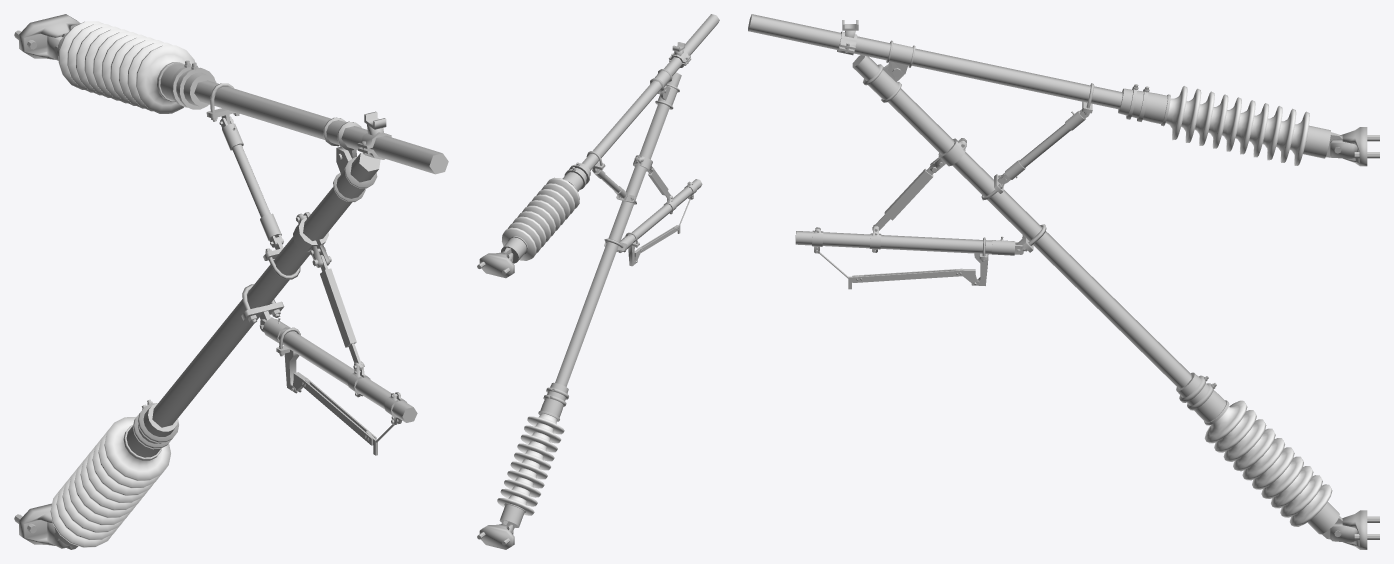
The model's file is single_short_elevated_positive.obj.
3 renders of one model, left to right at view 1: azimuth 30°, elevation 25°; view 2: azimuth 150°, elevation 25°; view 3: azimuth 270°, elevation 25°, orthographic. The views are drawn at different scales.
Visible parts, largest first — view 1: 贝塞尔曲线.001, 贝塞尔曲线, 贝塞尔曲线.002, 柱体.028, 柱体.007, 立方体.030, 柱体, 柱体.035, 立方体.038, 立方体.032, 立方体.024, 贝塞尔曲线.003 (+19 smaller); view 2: 贝塞尔曲线.001, 贝塞尔曲线, 贝塞尔曲线.002, 立方体.030, 立方体.032, 柱体.035, 柱体.018, 柱体.027, 柱体.008, 柱体.028, 柱体.033, 柱体.025 (+17 smaller); view 3: 贝塞尔曲线.001, 贝塞尔曲线, 贝塞尔曲线.002, 柱体, 柱体.035, 立方体.024, 柱体.028.
Part boxes in pixels (x1,y1,x2,y2): 贝塞尔曲线.001: (152,152,380,427); 贝塞尔曲线: (194,80,448,174); 贝塞尔曲线.002: (278,329,417,422); 柱体.028: (104,416,170,480); 柱体.007: (136,45,195,113); 立方体.030: (19,14,80,59); 柱体: (157,62,216,106); 柱体.035: (123,403,178,460); 立方体.038: (320,268,356,347); 立方体.032: (19,503,55,545); 立方体.024: (301,377,376,445); 贝塞尔曲线.003: (232,144,270,217); 贝塞尔曲线.001: (555,72,681,386); 贝塞尔曲线: (582,14,719,170); 贝塞尔曲线.002: (627,179,702,242); 立方体.030: (479,252,514,278); 立方体.032: (479,524,514,549); 柱体.035: (538,382,568,421); 柱体.018: (502,227,536,260); 柱体.027: (499,503,525,527); 柱体.008: (501,236,528,263); 柱体.028: (527,413,564,434); 柱体.033: (520,432,557,452); 柱体.025: (500,486,537,506); 贝塞尔曲线.001: (852,55,1191,388); 贝塞尔曲线: (748,14,1122,109); 贝塞尔曲线.002: (795,231,992,254); 柱体: (1118,88,1170,126); 柱体.035: (1176,372,1229,425); 立方体.024: (852,268,962,282); 柱体.028: (1204,400,1247,443).
Size of the model in its own units: 0.24 by 2.5 by 2.72.
